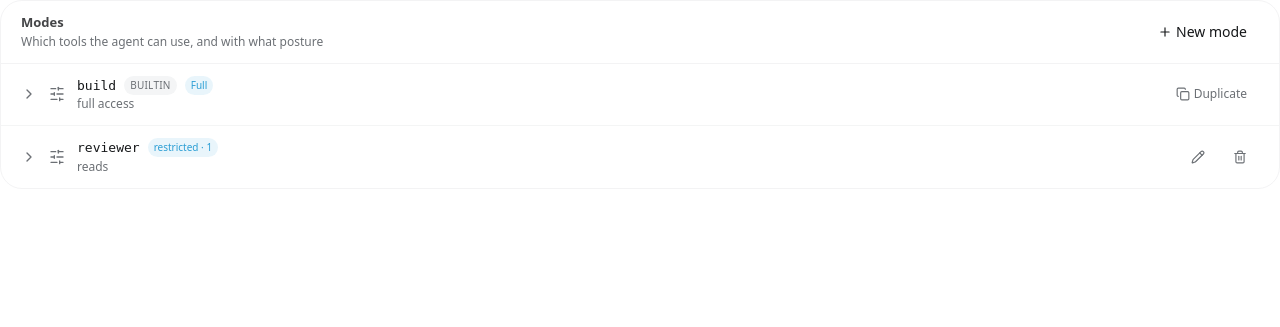
Test: ModesSettings › expands any mode (built-ins included) to inspect its tool surface
# Built-in `build` is full access → the read-only detail states it.
Click the text "build" at (97, 85), box [77,76,116,95]
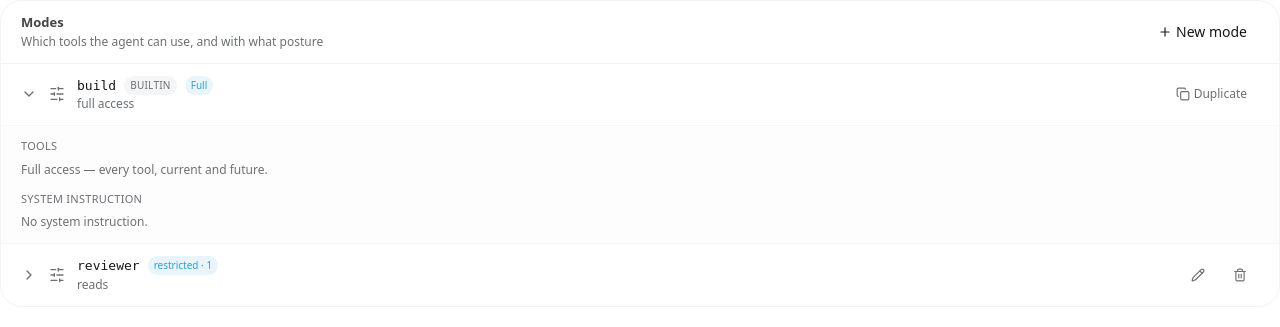
Check: the text "Full access — every tool, current and future." is shown, box [21,160,268,178]
# A restricted mode lists its allowed tools with the read-only flag.
Click the text "reviewer" at (108, 266), box [77,256,140,276]
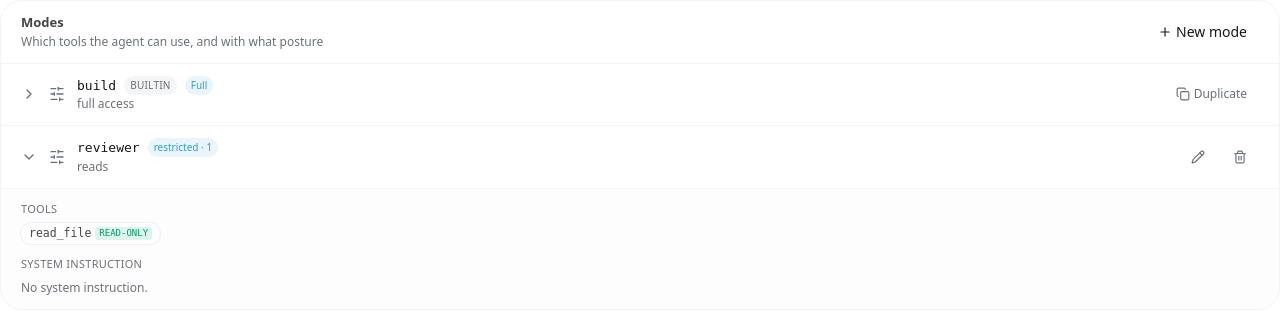
Check: the text "read_file" is shown, box [29,226,91,240]
